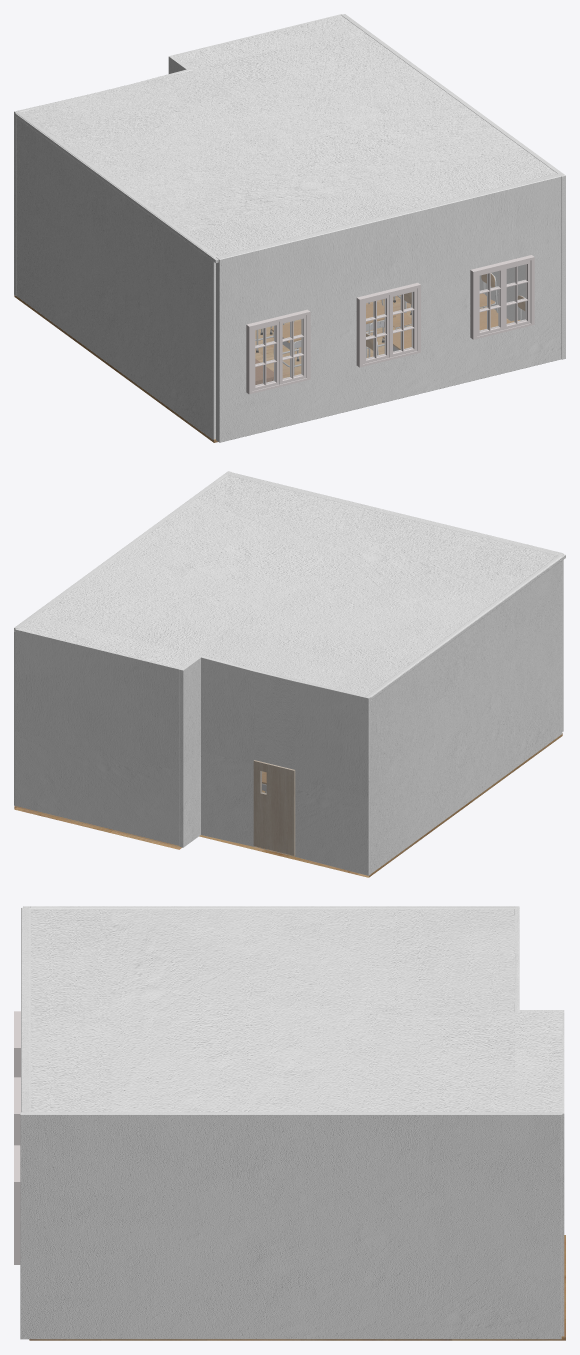
The model's file is basic_classroom.glb.
3 renders of one model, top to bottom at view 1: azimuth 30°, elevation 25°; view 2: azimuth 150°, elevation 25°; view 3: azimuth 270°, elevation 25°, orthographic. The views are drawn at different scales.
Visible parts, largest first — view 1: pCube32, pCube31, pCube5, pCube21, pCube22, pCube20, pCube37, pCube4, pCube6; view 2: pCube32, pCube6, pCube5, pCube24, pCube4, pCube31, pCube37; view 3: pCube37, pCube32, pCube31, pCube5, pCube6, pCube4, pCube20.
Part boxes in pixels (x1,y1,x2,y2): pCube32: (15, 14, 556, 263); pCube31: (216, 173, 562, 442); pCube5: (16, 111, 217, 439); pCube21: (356, 282, 420, 367); pCube22: (246, 309, 310, 394); pCube20: (470, 255, 534, 339); pCube37: (341, 14, 565, 359); pCube4: (14, 295, 510, 442); pCube6: (14, 14, 341, 295); pCube32: (14, 475, 565, 700); pCube6: (15, 629, 370, 875); pCube5: (366, 555, 562, 873); pCube24: (253, 760, 295, 855); pCube4: (14, 733, 562, 877); pCube31: (227, 472, 563, 731); pCube37: (14, 471, 231, 805); pCube37: (20, 1112, 561, 1339); pCube32: (23, 906, 562, 1118); pCube31: (21, 907, 30, 1113); pCube5: (30, 906, 516, 909); pCube6: (514, 906, 564, 1336); pCube4: (29, 1235, 565, 1340); pCube20: (14, 1145, 20, 1264).
Size of the model in its own units: 7.74 by 3.93 by 8.64.
Materials: 19 (10 with a texture image).
